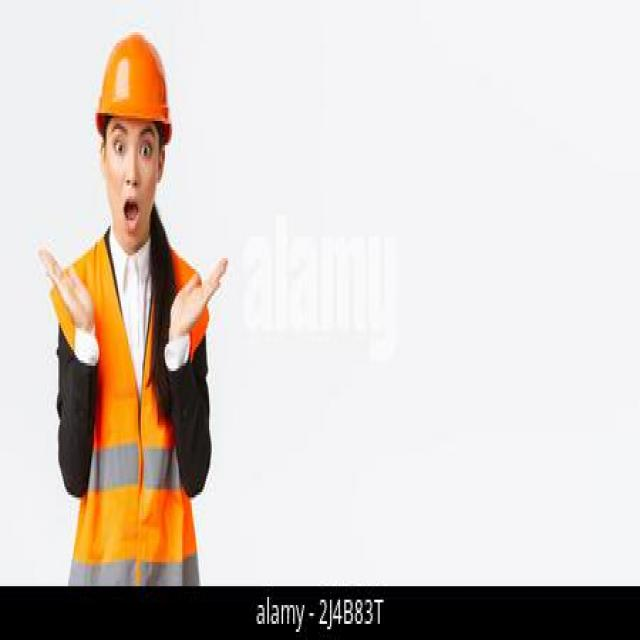Reflective-Jacket: (58, 237, 212, 570)
Safety-Helmet: (92, 29, 176, 140)
